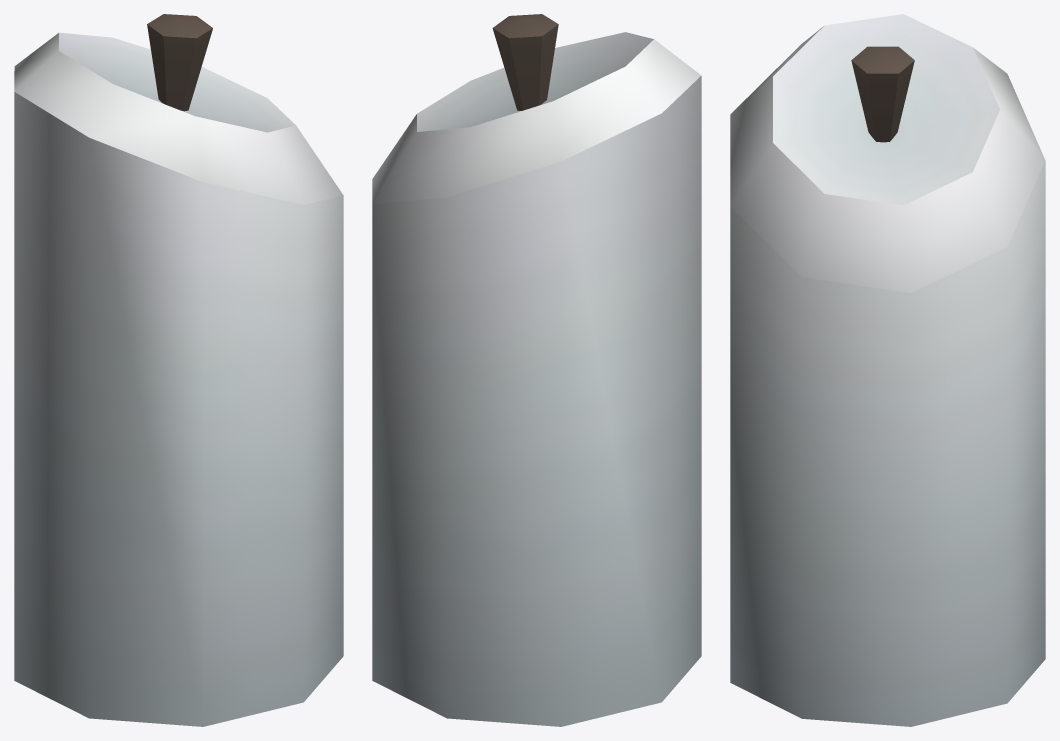
Rendered from kay-vela-derretida.gltf.
3 views of the same model, side by side, from view 1: azimuth 30°, elevation 25°; view 2: azimuth 150°, elevation 25°; view 3: azimuth 270°, elevation 25° (orthographic). The views are drawn at different scales.
Visible parts, largest first — view 1: candle_melted; view 2: candle_melted; view 3: candle_melted.
Part boxes in pixels (x1=…): candle_melted: x1=14, y1=14, x2=343, y2=726; candle_melted: x1=372, y1=14, x2=701, y2=726; candle_melted: x1=730, y1=14, x2=1045, y2=726.
Bounding box in the file's own units: 0.1505 × 0.3157 × 0.1482.
Materials: 1 (1 with a texture image).
